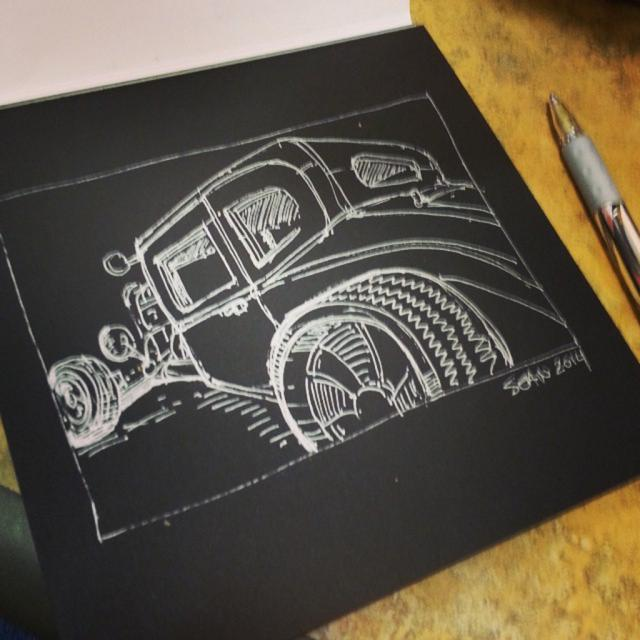pen: (549, 89, 639, 327)
